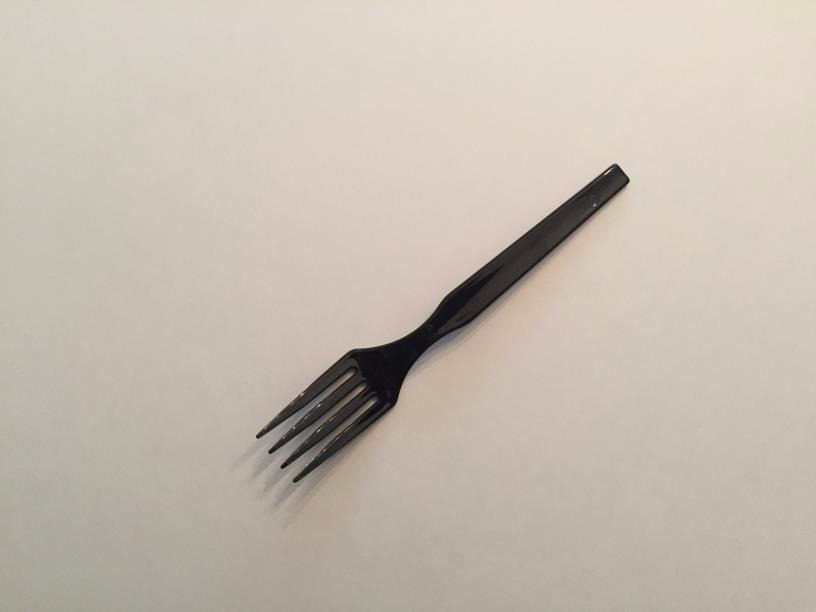fork: (229, 148, 656, 516)
